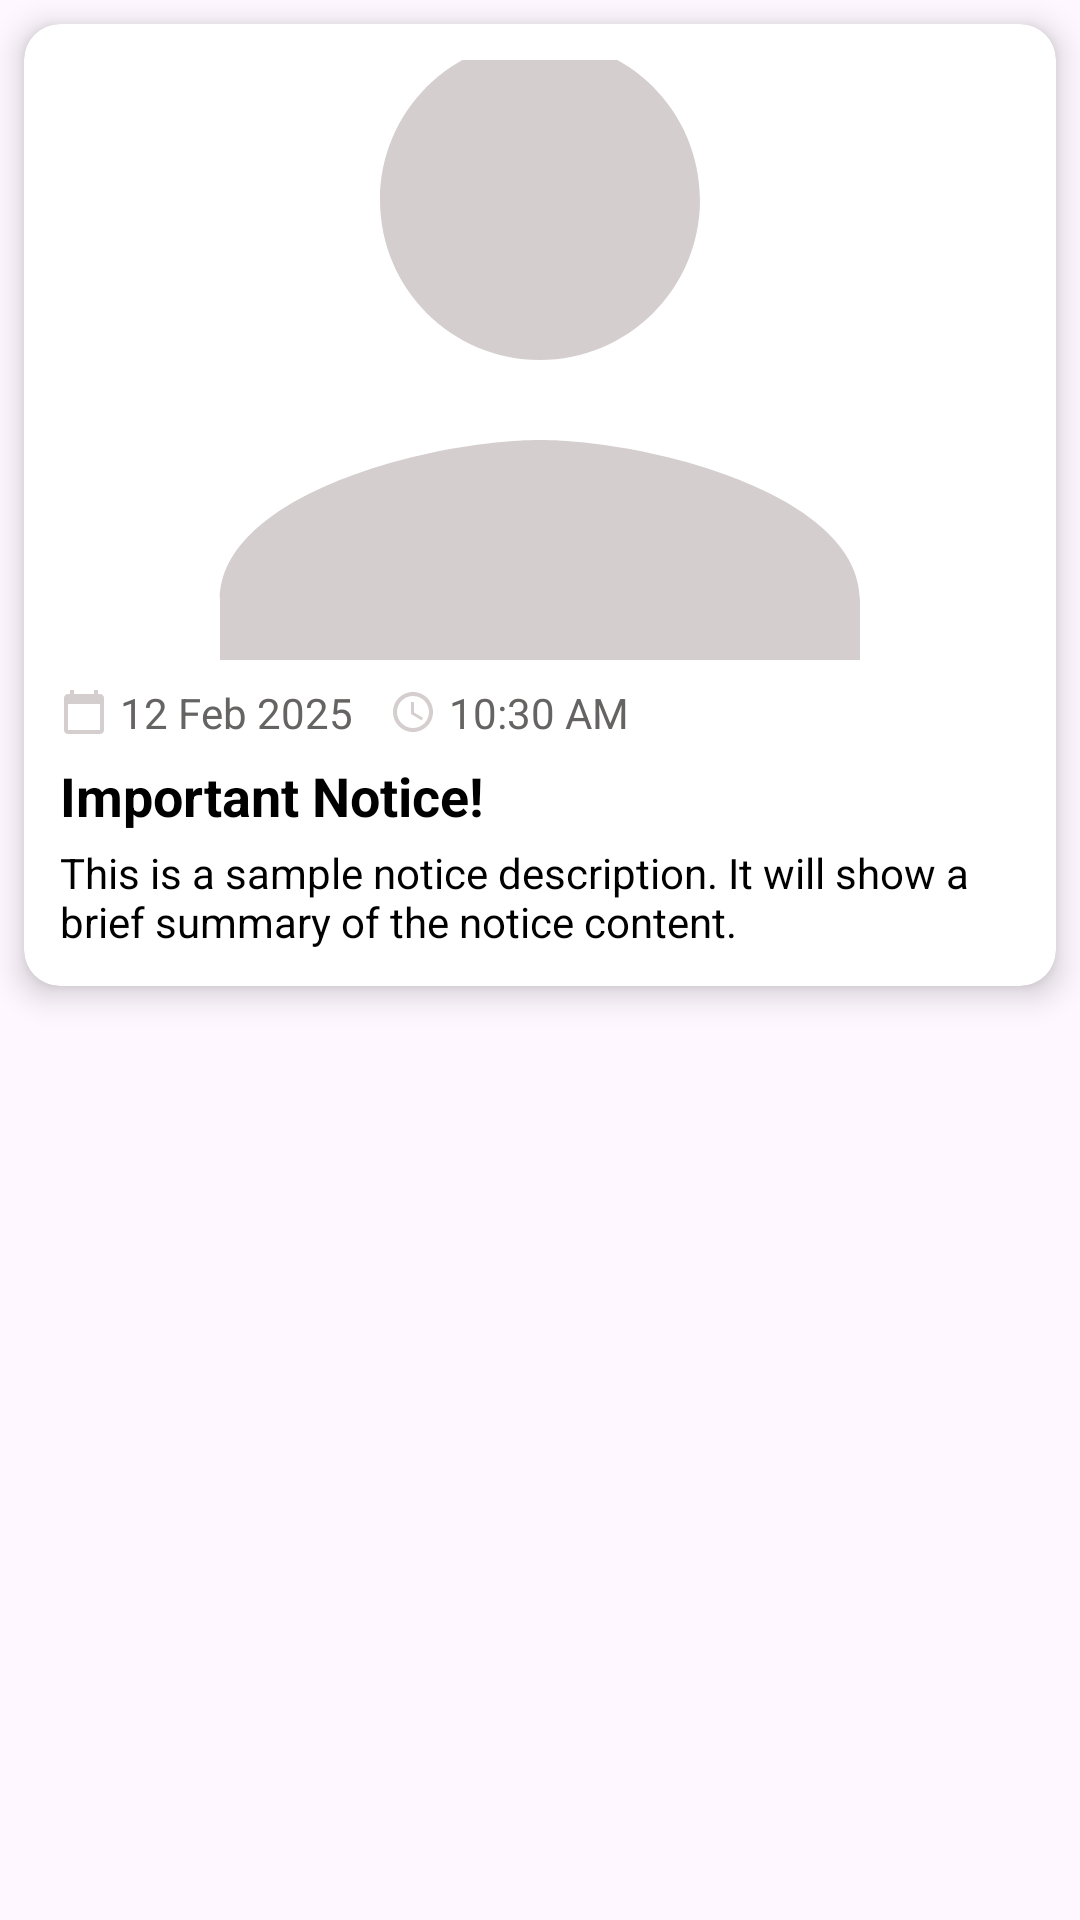

Icon click points for this 1080px x 1920px phone screenshot, format point (x, y):
access time: point (413, 712)
calendar today: point (84, 712)
